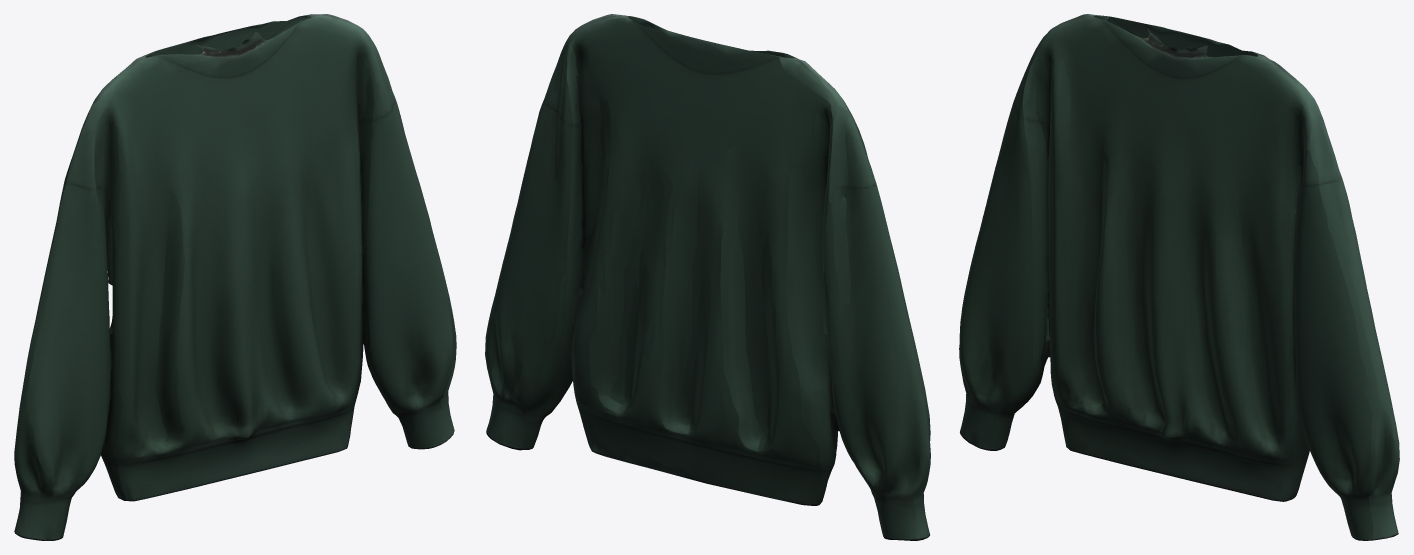
Rendered from forest-product.glb.
3 renders of one model, left to right at view 1: azimuth 30°, elevation 25°; view 2: azimuth 150°, elevation 25°; view 3: azimuth 330°, elevation 25°, orthographic.
Visible parts, largest first — view 1: geometry_0; view 2: geometry_0; view 3: geometry_0.
Boxes of the visible parts, x1,y1,x2,y2 form: geometry_0: (14,14,456,540); geometry_0: (485,14,930,540); geometry_0: (959,14,1399,540).
Bounding box in the file's own units: 0.7174 × 0.705 × 0.0835.
1 material, 1 textured.
